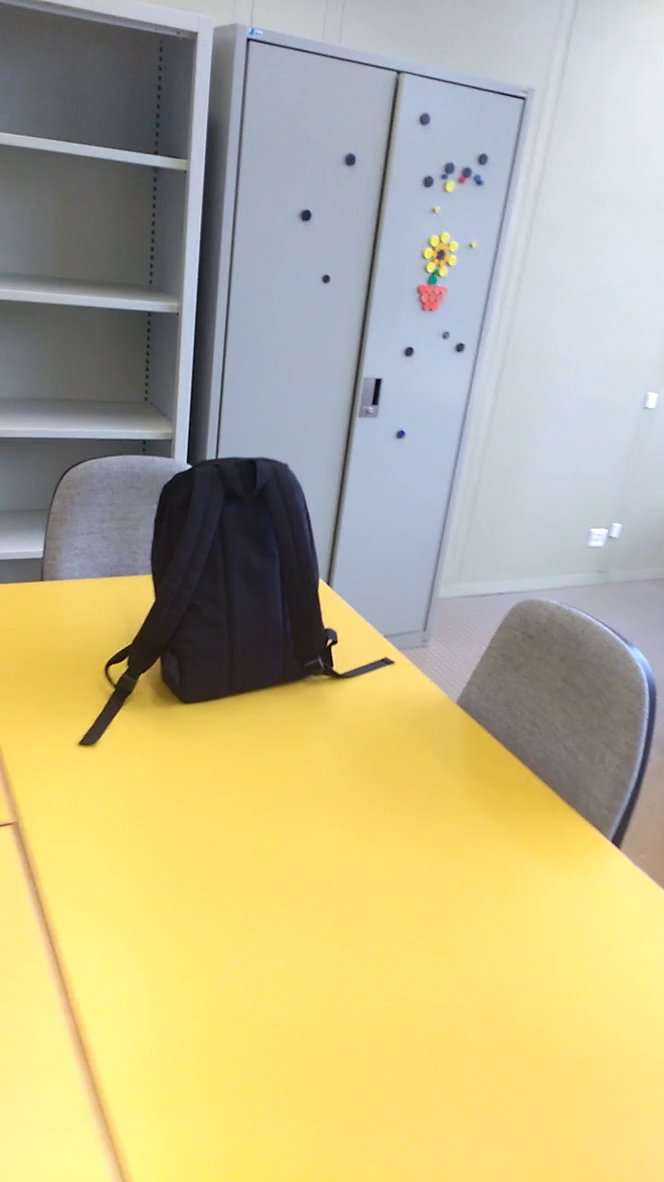bag: (71, 452, 398, 755)
chair: (438, 572, 664, 861), (26, 435, 223, 590)
